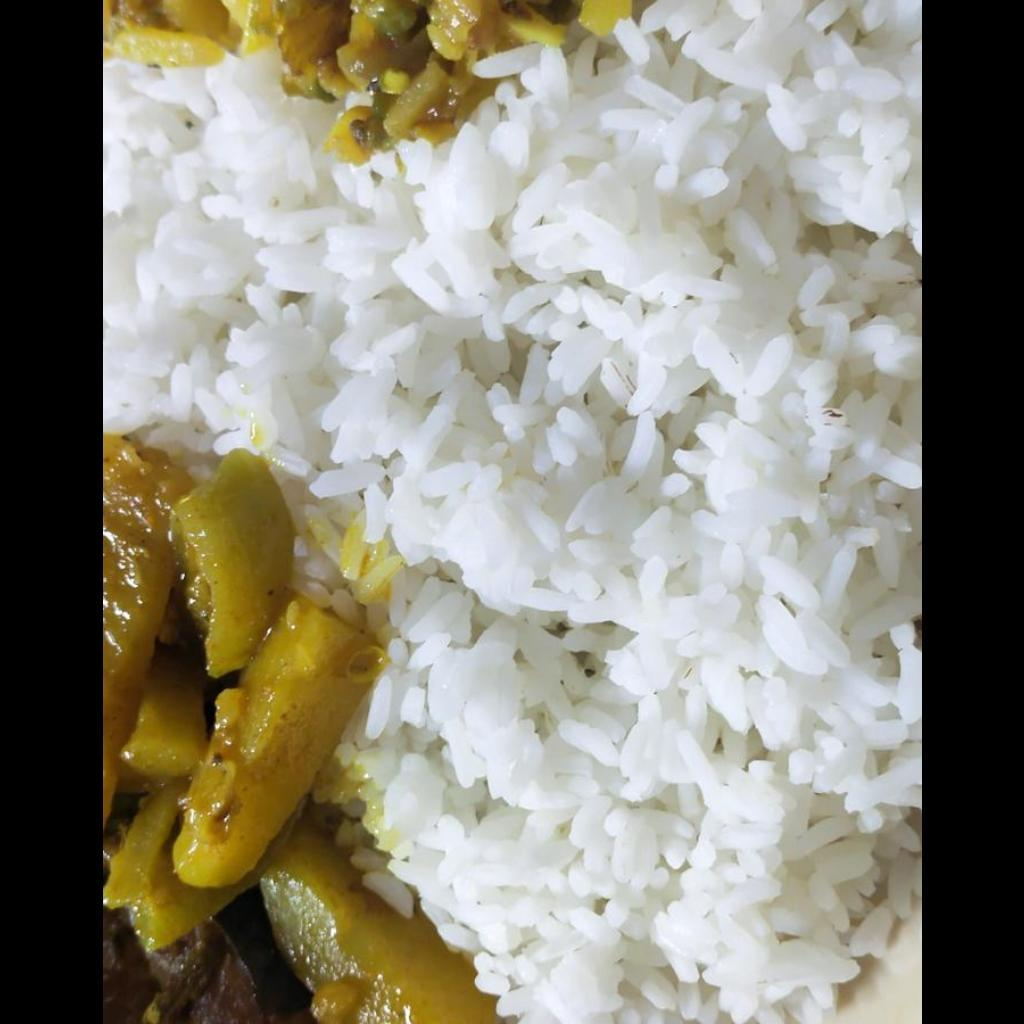rice: (103, 1, 920, 1023)
vegetable: (102, 437, 497, 1023), (102, 0, 632, 160)
